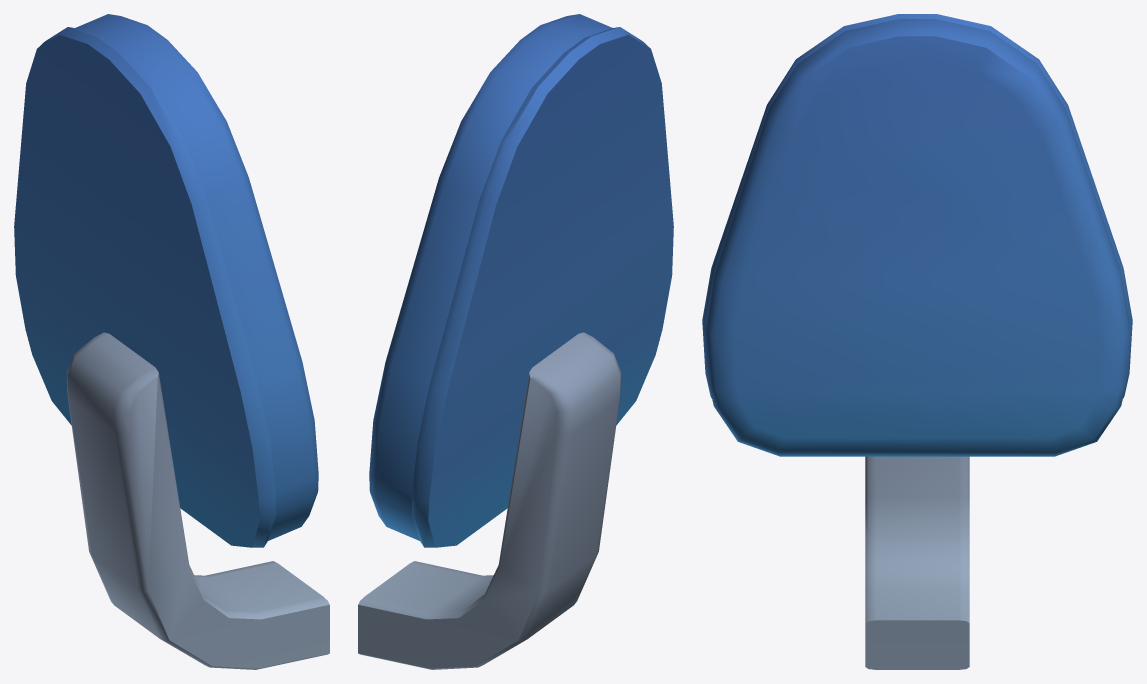
File: sur_chair.2.fbx
The picture shows the model from 3 angles, left to right: view 1: azimuth 30°, elevation 25°; view 2: azimuth 150°, elevation 25°; view 3: azimuth 270°, elevation 25°; orthographic projection. The views are drawn at different scales.
Parts seen in each view (by area): view 1: sur_chair.2; view 2: sur_chair.2; view 3: sur_chair.2.
Part boxes in pixels (x1,y1,x2,y2): sur_chair.2: (14,14,329,669); sur_chair.2: (358,14,673,669); sur_chair.2: (702,14,1132,669).
Bounding box in the file's own units: 13.22 × 38.64 × 26.24.
